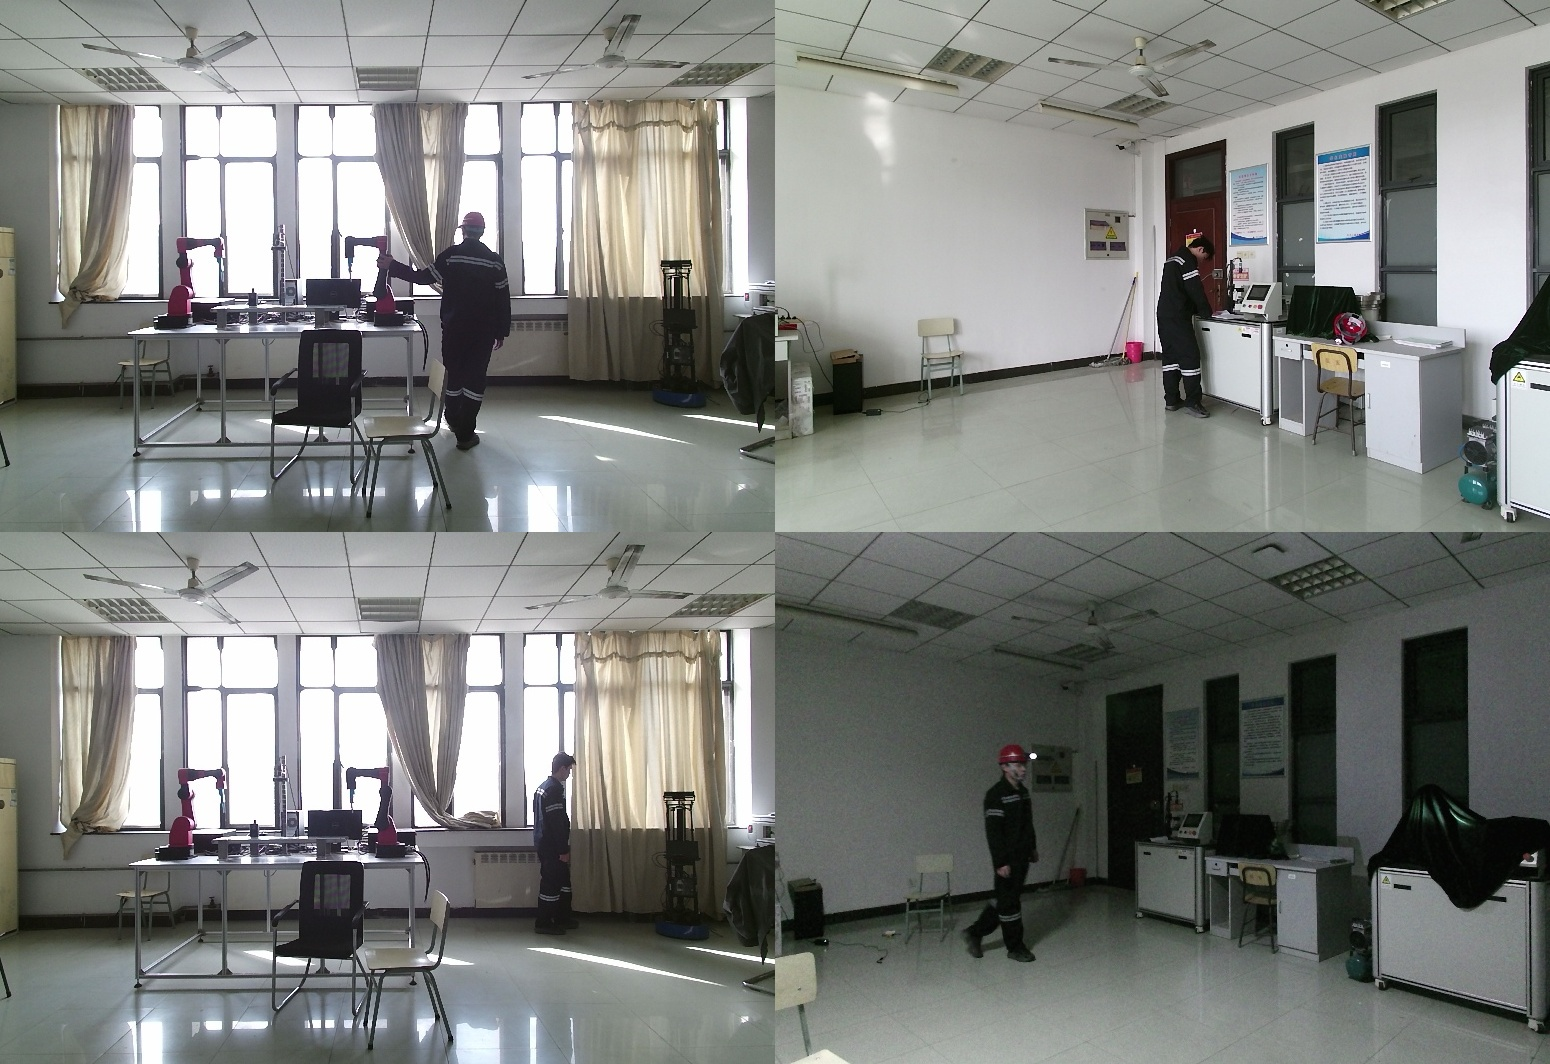person: (379, 213, 521, 452), (957, 747, 1039, 975), (535, 758, 602, 941), (1159, 239, 1218, 420)
